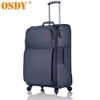luggage: (23, 0, 73, 93)
